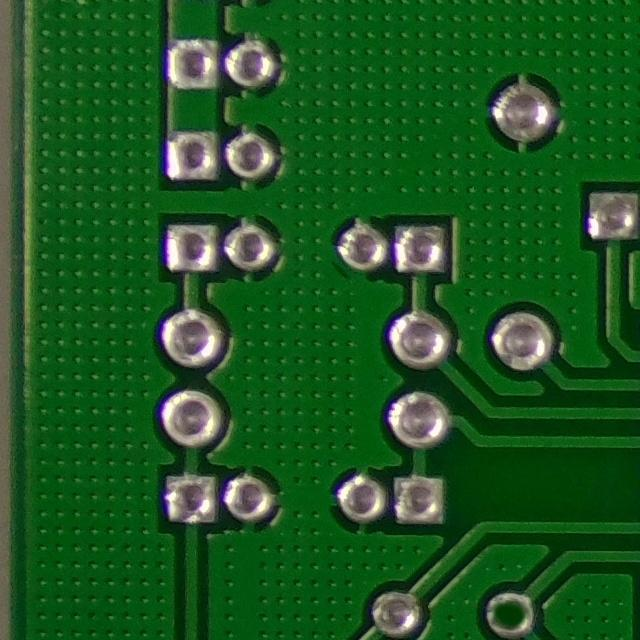missing_hole: (482, 585, 539, 640)
